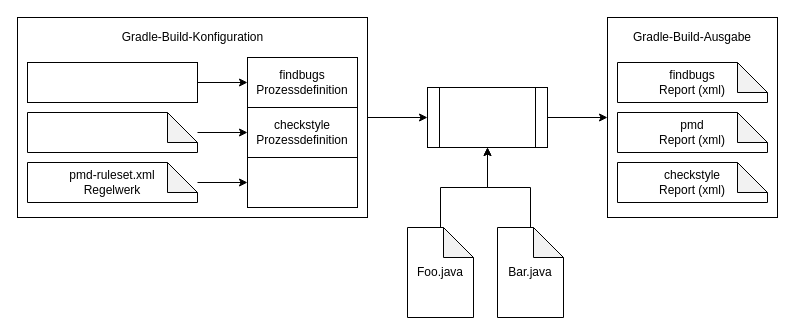
Image size: 795x335. Some labels were removed from this diagram. The centre of each missing label's shape, as x and y in pixels:
"checkstyle.xml Regelwerk" belongs at (x=112, y=132).
"findbugs Prüfparameter" belongs at (x=112, y=82).
"Gradle-Build (Prozess)" belongs at (x=487, y=117).
"pmd Prozessdefinition" belongs at (x=302, y=182).
